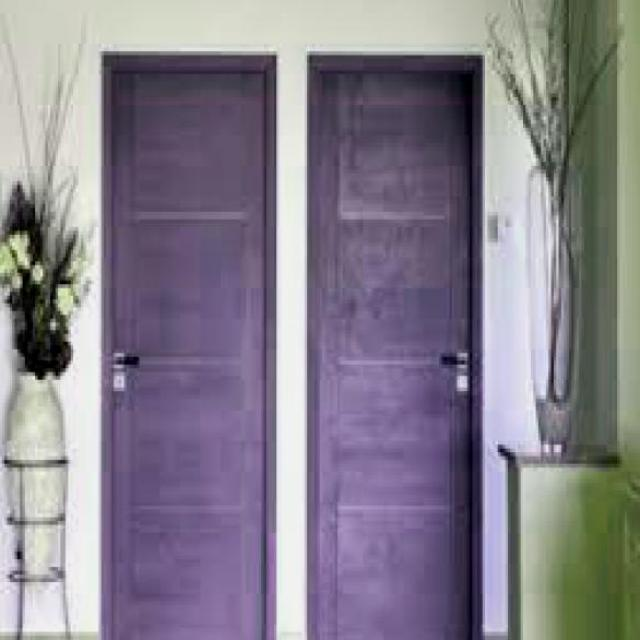door: (301, 51, 485, 640), (99, 52, 273, 638)
